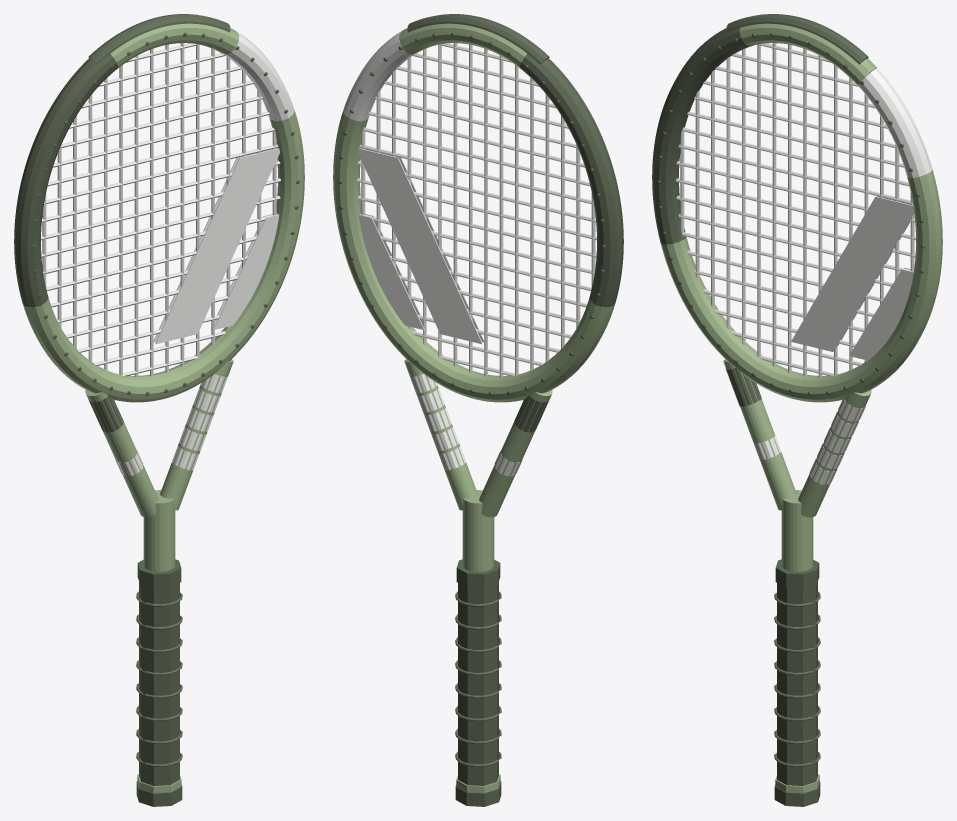
Rendered from yonex-percept-100.glb.
The picture shows the model from 3 angles, left to right: view 1: azimuth 30°, elevation 25°; view 2: azimuth 150°, elevation 25°; view 3: azimuth 330°, elevation 25°; orthographic projection.
Parts seen in each view (by area): view 1: strings, frame, stencil, frame_black, handle, frame_white, throat, shaft, wraps, collar, grommets, cap; view 2: strings, frame, stencil, frame_black, handle, frame_white, throat, shaft, wraps, collar, grommets, cap; view 3: strings, frame, stencil, frame_black, handle, frame_white, throat, shaft, wraps, collar, grommets, cap.
Part boxes in pixels (x1,y1,x2,y2): strings: (41,43,280,377); frame: (23,23,304,402); stencil: (153,148,279,344); frame_black: (14,14,230,432); handle: (139,582,179,785); frame_white: (115,31,294,476); throat: (85,359,233,517); shaft: (143,490,175,571); wraps: (136,591,182,766); collar: (137,559,181,588); grommets: (32,32,299,395); cap: (136,781,182,806); strings: (357,43,596,377); frame: (333,23,614,402); stencil: (358,148,484,344); frame_black: (407,14,623,432); handle: (458,582,498,785); frame_white: (343,31,522,476); throat: (404,359,552,517); shaft: (462,490,494,571); wraps: (455,591,501,766); collar: (456,559,500,588); grommets: (338,32,605,395); cap: (455,781,501,806); strings: (675,43,915,377); frame: (660,23,942,402); stencil: (791,196,914,360); frame_black: (652,14,868,406); handle: (777,582,817,785); frame_white: (753,68,932,484); throat: (723,359,871,517); shaft: (781,490,813,571); wraps: (774,591,820,766); collar: (775,559,819,588); grommets: (657,32,924,395); cap: (774,781,820,806).
Size of the model in its own units: 0.272 by 0.7055 by 0.039.
